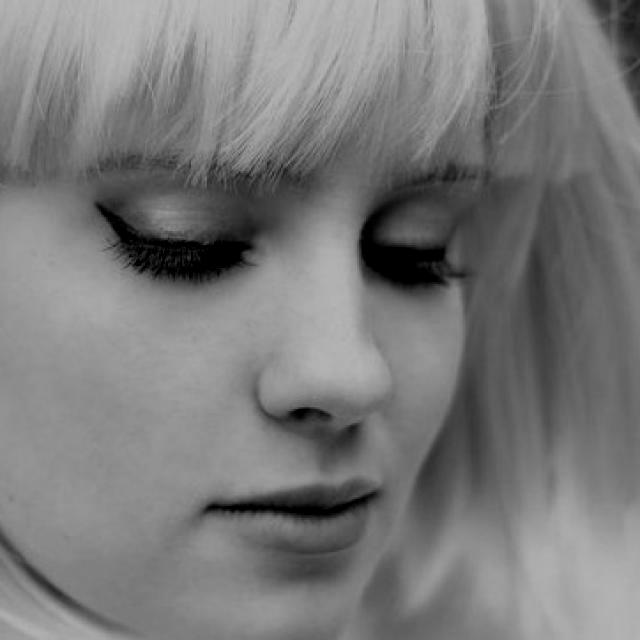real: (0, 5, 467, 631), (92, 172, 464, 322)
